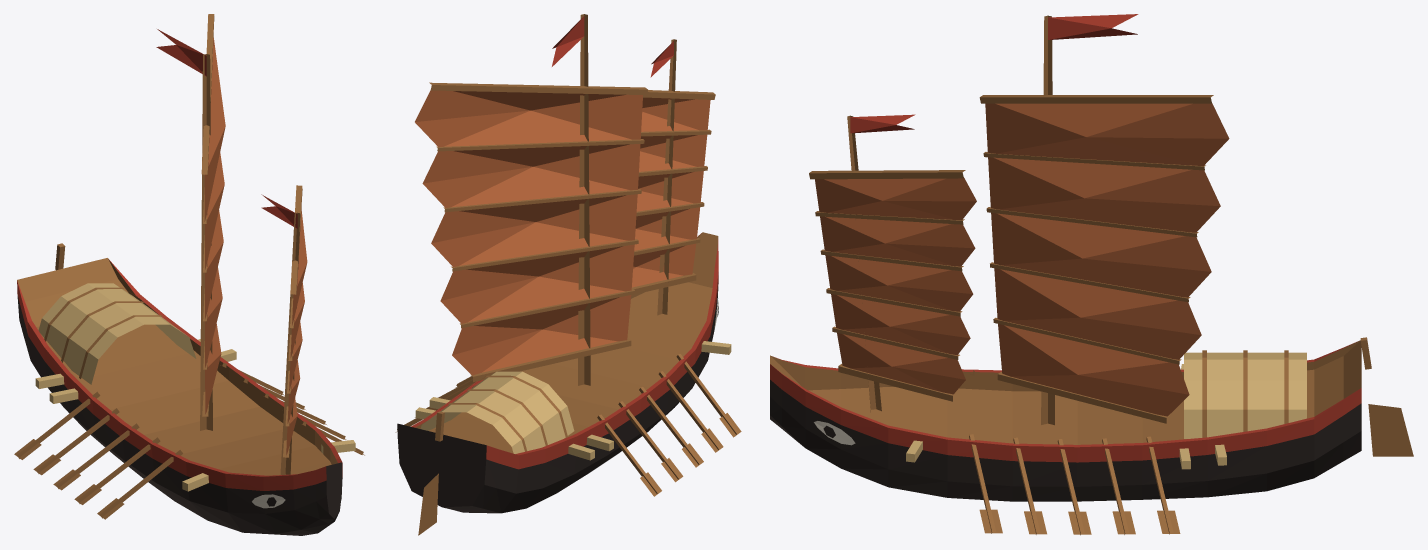
Rendered from ship_brig.glb.
3 views of the same model, side by side, from view 1: azimuth 30°, elevation 25°; view 2: azimuth 150°, elevation 25°; view 3: azimuth 270°, elevation 25° (orthographic). The views are drawn at different scales.
Visible parts, largest first — view 1: ship_brig; view 2: ship_brig; view 3: ship_brig.
Boxes of the visible parts, box(x1,y1,x2,y2) form: ship_brig: box(14, 14, 364, 535); ship_brig: box(395, 14, 741, 535); ship_brig: box(770, 14, 1413, 535).
Size of the model in its own units: 7.42 by 11.35 by 14.15.
